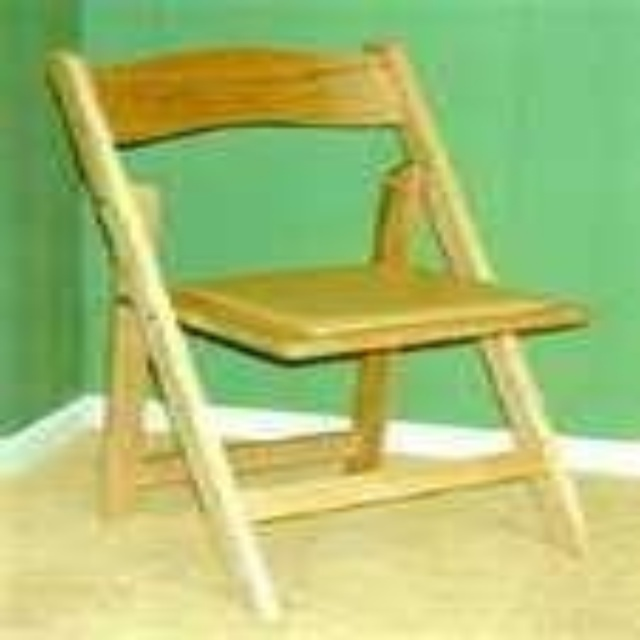obstacle: (45, 44, 583, 616)
